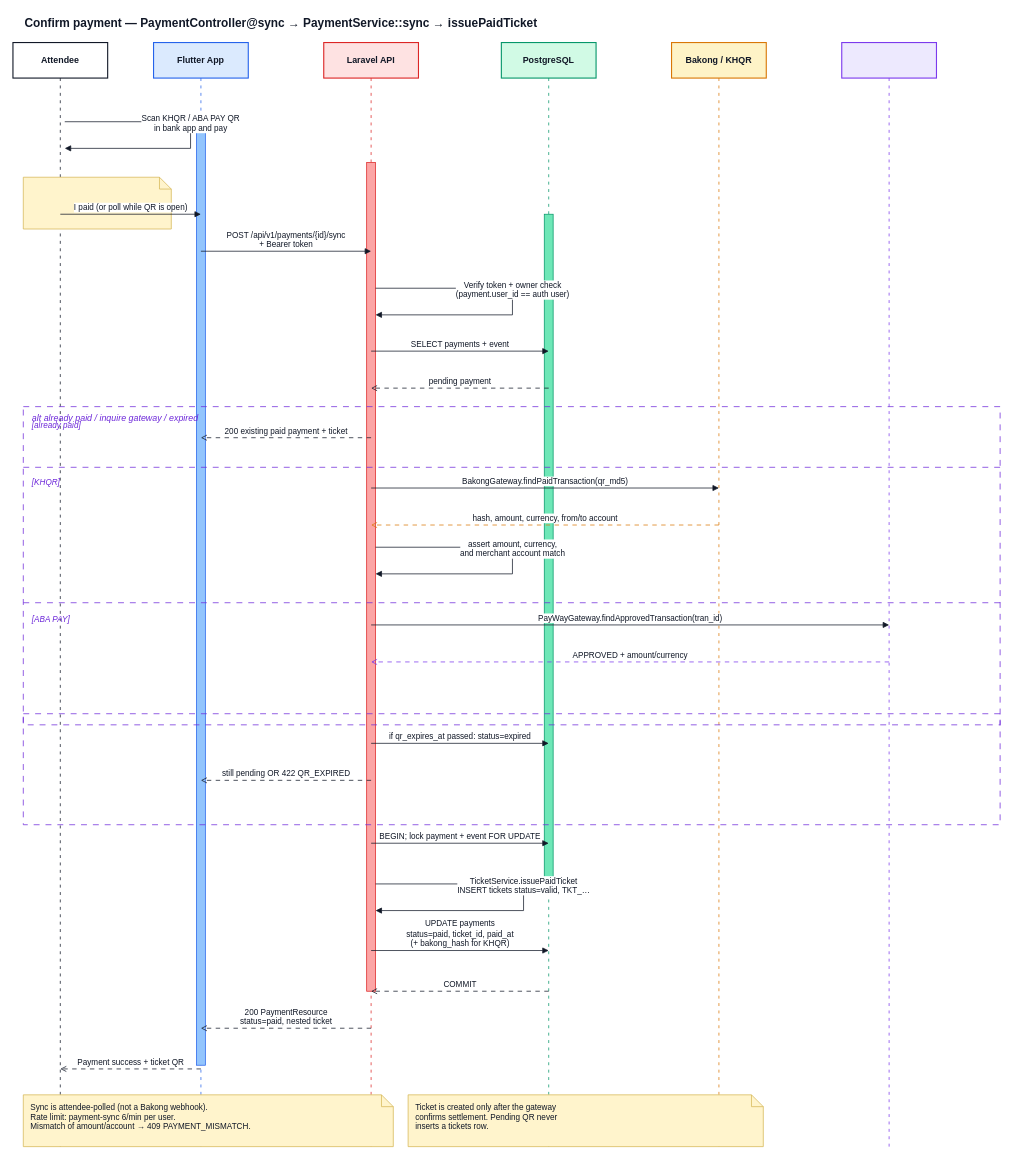
The diagram is 1015 pixels wide and 1160 high, and some of its shapes have lost their labels. Each missing label, with the centre of its shape:
"ABA PayWay" belongs at pixel 889 60.
"Bakong or ABA settles the transfer. Laravel is not in this hop." belongs at pixel 97 202.
"opt gateway has no settlement yet" belongs at pixel 511 769.
